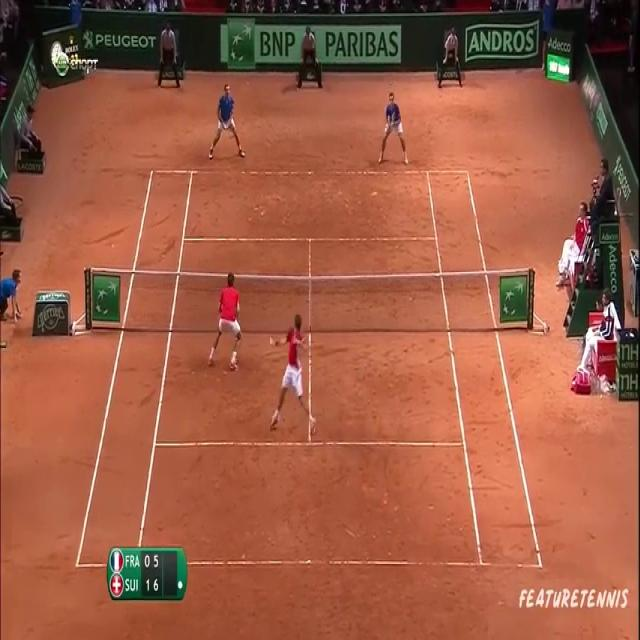non_violence: (268, 310, 316, 436), (208, 272, 241, 372), (208, 85, 244, 161), (377, 92, 409, 166)
